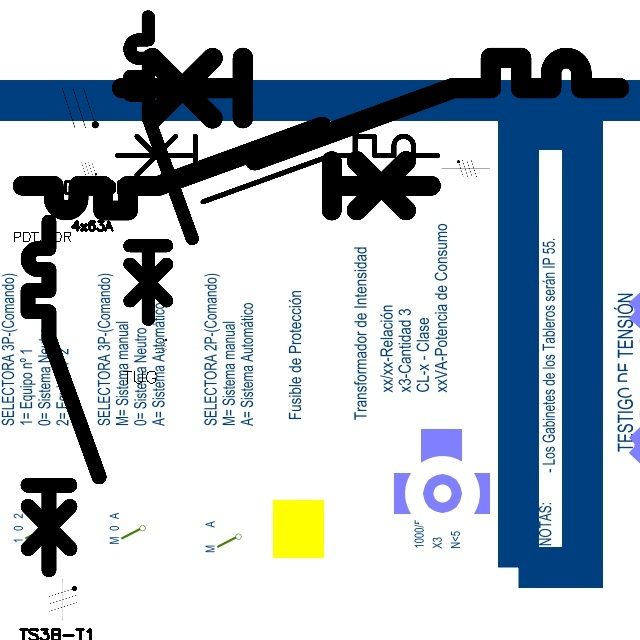interruptor_termomagnetico: (109, 45, 632, 173), (12, 116, 441, 221), (19, 213, 108, 578), (109, 128, 446, 210), (122, 9, 200, 327)
